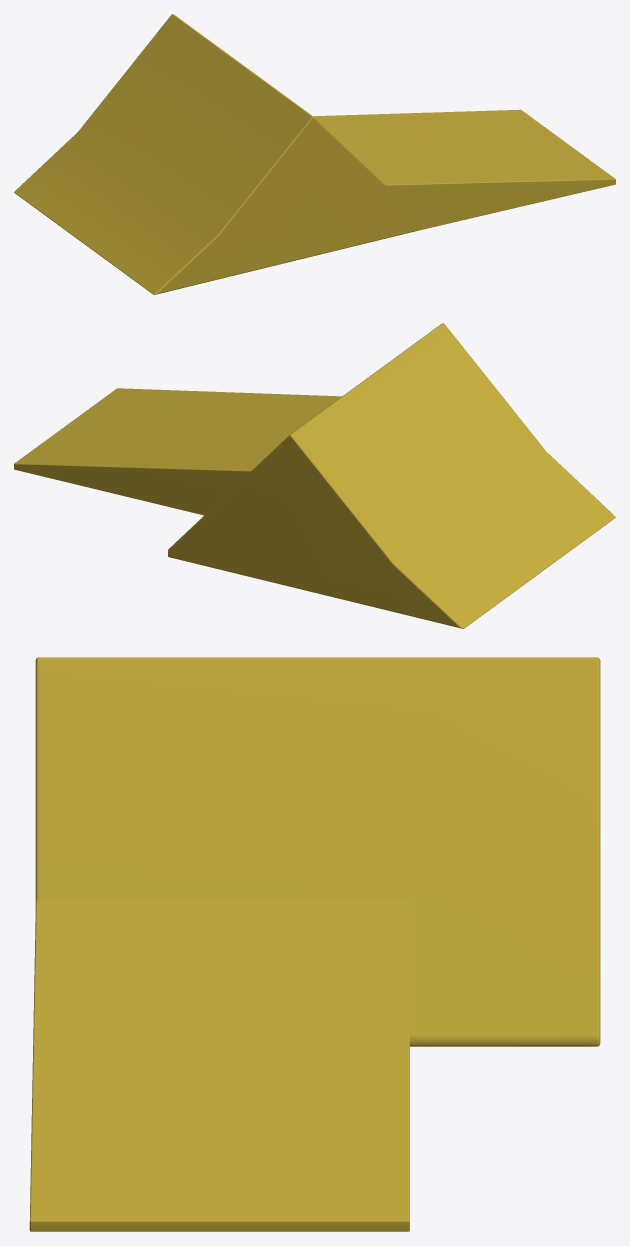
File: FM_H_SH_02_Block_02_001.fbx
3 views of the same model, one above another, from view 1: azimuth 30°, elevation 25°; view 2: azimuth 150°, elevation 25°; view 3: azimuth 270°, elevation 25° (orthographic). The views are drawn at different scales.
Visible parts, largest first — view 1: FM_H_Small_house_02_Block_02_001; view 2: FM_H_Small_house_02_Block_02_001; view 3: FM_H_Small_house_02_Block_02_001.
Part boxes in pixels (bbox=[...]): FM_H_Small_house_02_Block_02_001: bbox=[14, 14, 615, 294]; FM_H_Small_house_02_Block_02_001: bbox=[14, 323, 615, 628]; FM_H_Small_house_02_Block_02_001: bbox=[29, 657, 600, 1231].
Bounding box in the file's own units: 13.66 × 3.98 × 7.32.
